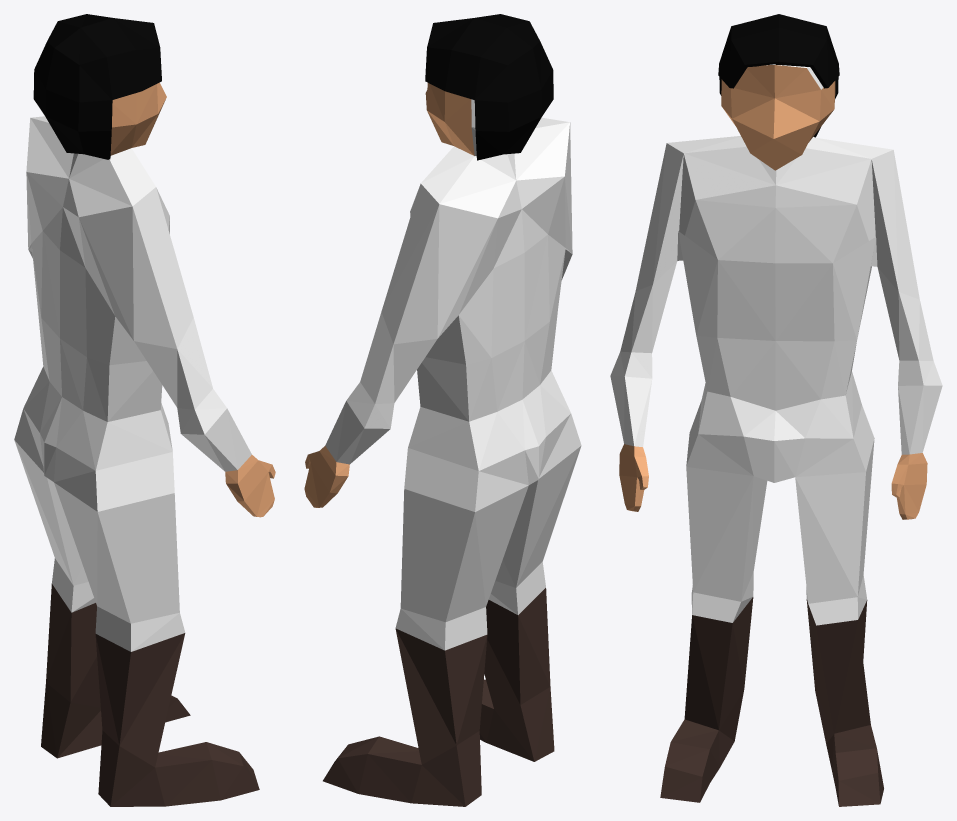
The model's file is char_direita.obj.
3 renders of one model, left to right at view 1: azimuth 30°, elevation 25°; view 2: azimuth 150°, elevation 25°; view 3: azimuth 270°, elevation 25°, orthographic. The views are drawn at different scales.
Parts seen in each view (by area): view 1: body_Cube.006, hair_Cube.005; view 2: body_Cube.006, hair_Cube.005; view 3: body_Cube.006, hair_Cube.005.
Boxes of the visible parts, x1=… form: body_Cube.006: x1=14, y1=82, x2=275, y2=806; hair_Cube.005: x1=33, y1=14, x2=161, y2=159; body_Cube.006: x1=304, y1=83, x2=581, y2=806; hair_Cube.005: x1=425, y1=14, x2=553, y2=160; body_Cube.006: x1=610, y1=64, x2=942, y2=806; hair_Cube.005: x1=718, y1=14, x2=839, y2=137.
Size of the model in its own units: 0.5279 by 2.14 by 0.882.
1 material, 1 textured.
